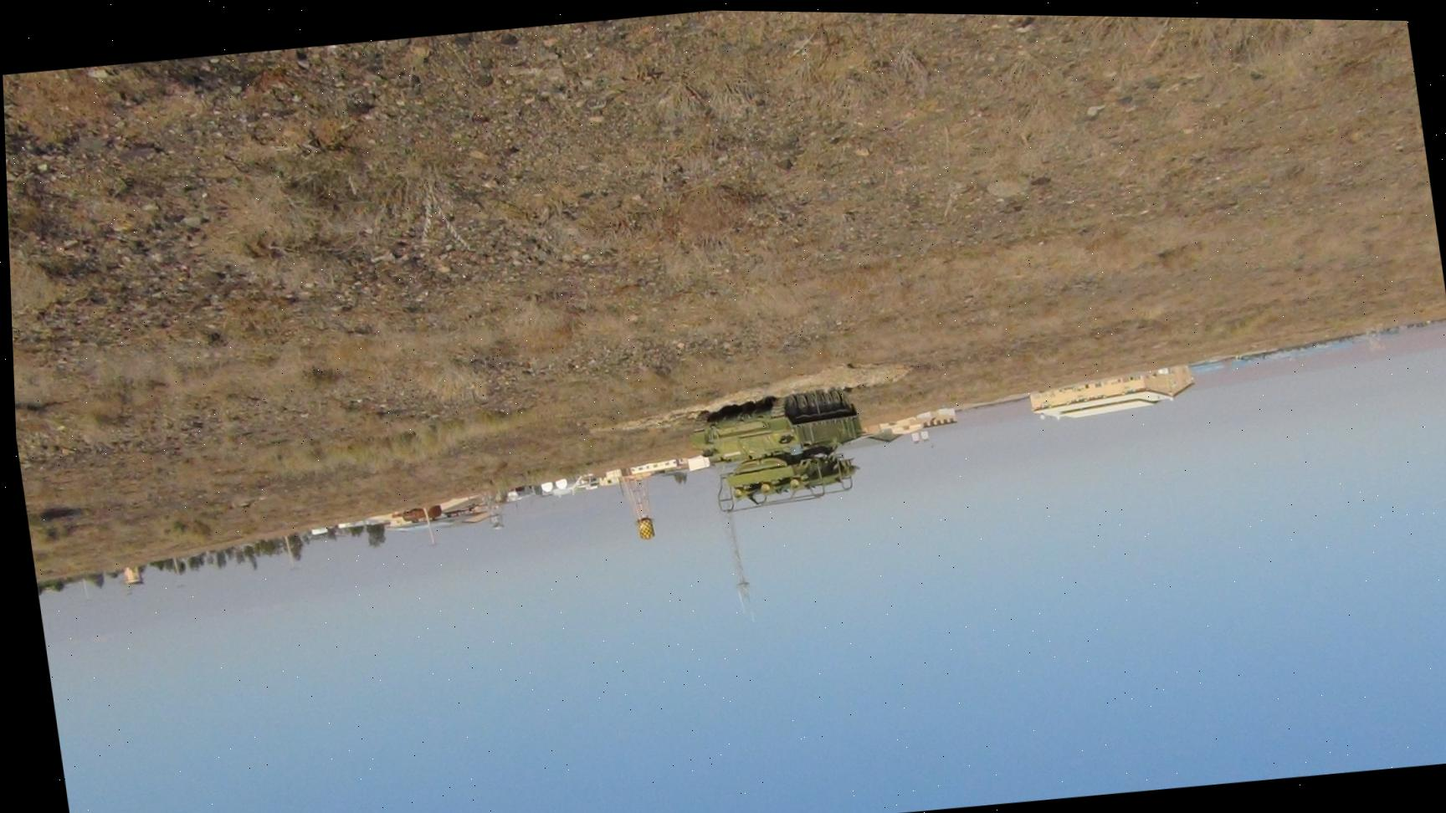armored_car: (690, 382, 873, 515)
